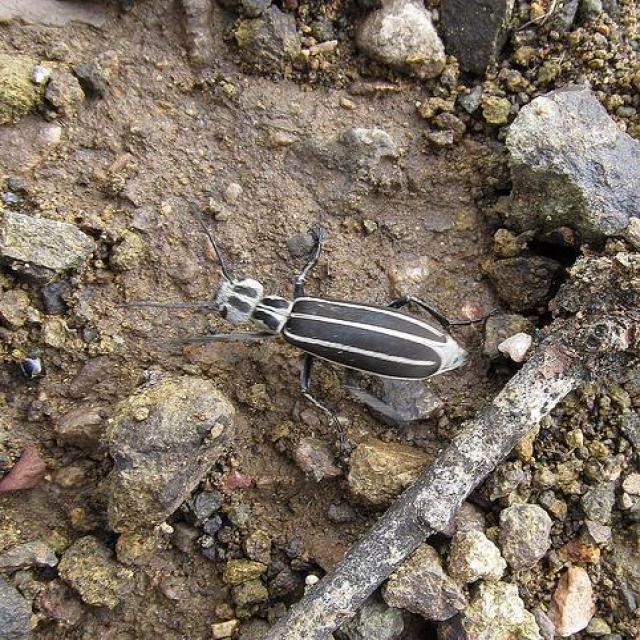BlisterBeetle-Adult-: (121, 195, 492, 429)
